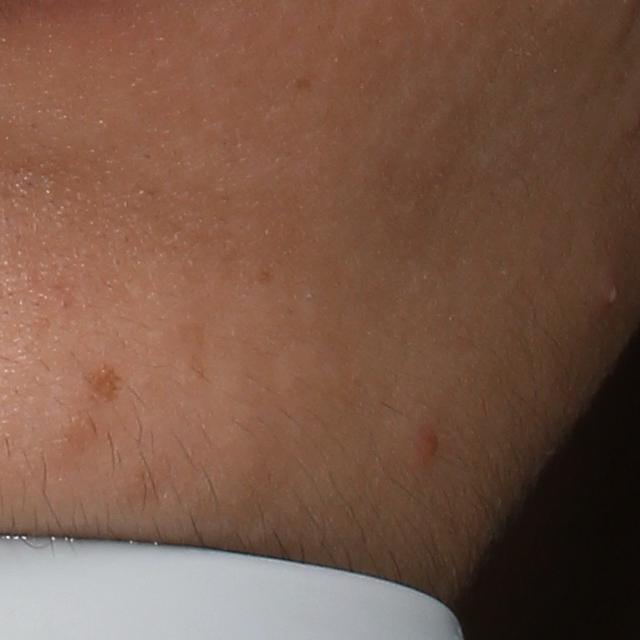papule: (410, 421, 450, 464)
